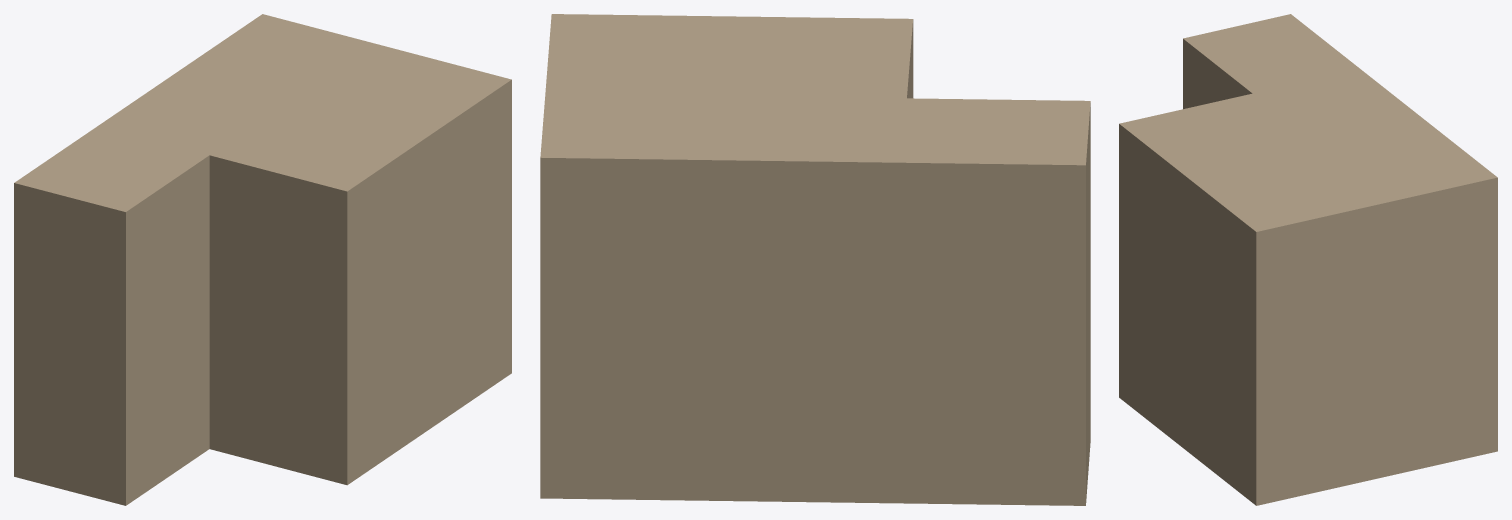
Rendered from bld_100469314.dae.
3 renders of one model, left to right at view 1: azimuth 30°, elevation 25°; view 2: azimuth 150°, elevation 25°; view 3: azimuth 270°, elevation 25°, orthographic. The views are drawn at different scales.
Parts seen in each view (by area): view 1: bld_100469314; view 2: bld_100469314; view 3: bld_100469314.
Boxes of the visible parts, box(x1,y1,x2,y2) form: bld_100469314: box(14, 14, 511, 505); bld_100469314: box(540, 14, 1090, 505); bld_100469314: box(1119, 14, 1497, 505).
Bounding box in the file's own units: 13.66 × 10.03 × 8.
